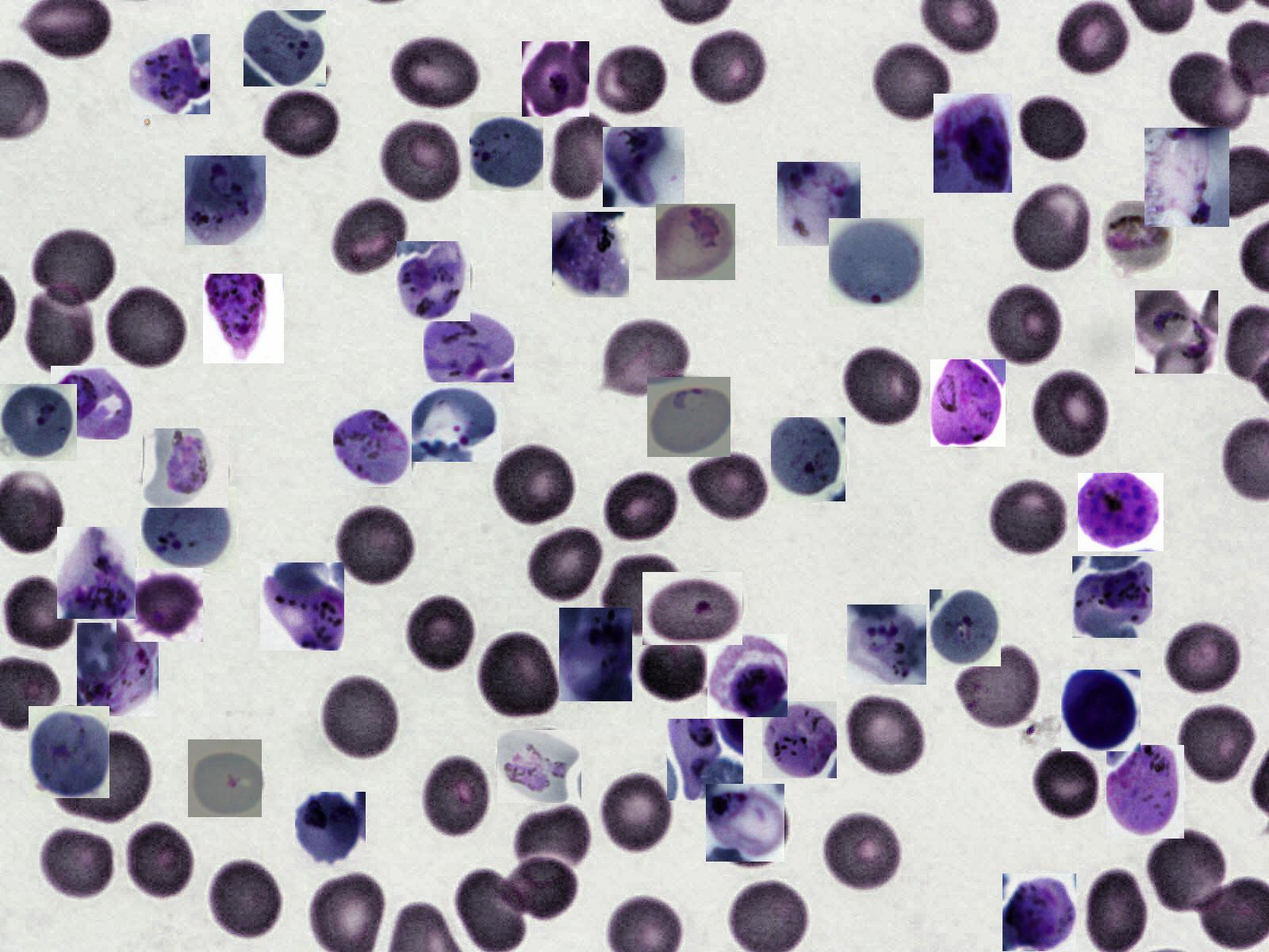Infected: (829, 218, 924, 307), (1144, 128, 1229, 227), (142, 486, 236, 572), (934, 94, 1012, 193), (77, 623, 159, 716), (260, 562, 344, 651), (29, 706, 109, 798), (1106, 745, 1184, 839), (642, 572, 742, 645), (185, 155, 266, 245), (57, 527, 136, 619), (203, 274, 284, 363), (408, 386, 501, 462), (777, 162, 861, 246), (1135, 290, 1218, 374), (143, 428, 228, 508), (559, 608, 632, 701), (707, 634, 788, 717), (1078, 473, 1164, 551), (930, 359, 1006, 447), (647, 377, 730, 457), (552, 212, 629, 298), (424, 309, 514, 382), (1072, 556, 1152, 638), (1061, 670, 1141, 751), (603, 127, 684, 207), (130, 34, 210, 114), (117, 568, 203, 642), (847, 605, 926, 685), (243, 10, 326, 86), (771, 417, 845, 501), (333, 409, 412, 487), (667, 719, 743, 800), (497, 730, 581, 803), (706, 784, 784, 862), (656, 204, 735, 280), (51, 366, 132, 440), (0, 384, 77, 461), (1100, 201, 1176, 278), (397, 241, 470, 321), (762, 701, 837, 778), (188, 739, 262, 817), (470, 112, 543, 190), (1003, 873, 1076, 951), (930, 589, 1001, 666), (295, 792, 366, 869), (522, 41, 589, 117)
Uninfected: (54, 731, 148, 829), (473, 628, 561, 722), (1009, 181, 1092, 276), (951, 644, 1040, 732), (1167, 47, 1258, 133), (598, 317, 690, 401), (489, 441, 576, 528), (602, 552, 688, 639), (842, 692, 927, 780), (1146, 828, 1230, 917), (377, 118, 462, 205), (1028, 369, 1109, 460), (320, 674, 401, 762), (105, 285, 187, 371), (511, 804, 592, 891), (391, 36, 480, 114), (31, 228, 116, 309), (822, 810, 904, 892), (547, 110, 619, 203), (842, 346, 923, 428), (335, 506, 416, 588), (984, 283, 1063, 367), (690, 29, 770, 111), (1176, 702, 1255, 785), (24, 282, 95, 374), (988, 478, 1068, 559), (871, 40, 949, 121), (204, 863, 281, 945), (330, 195, 406, 278), (120, 820, 197, 901), (688, 451, 773, 524), (401, 593, 480, 671), (593, 771, 670, 851), (488, 853, 576, 923), (1162, 620, 1241, 697), (522, 525, 601, 602), (1054, 0, 1130, 78), (420, 754, 488, 841), (0, 574, 76, 651), (261, 87, 339, 162), (603, 471, 678, 547), (591, 42, 666, 115), (1031, 746, 1102, 823), (40, 828, 113, 902), (637, 632, 711, 705), (1081, 870, 1146, 951), (1016, 94, 1087, 166)
